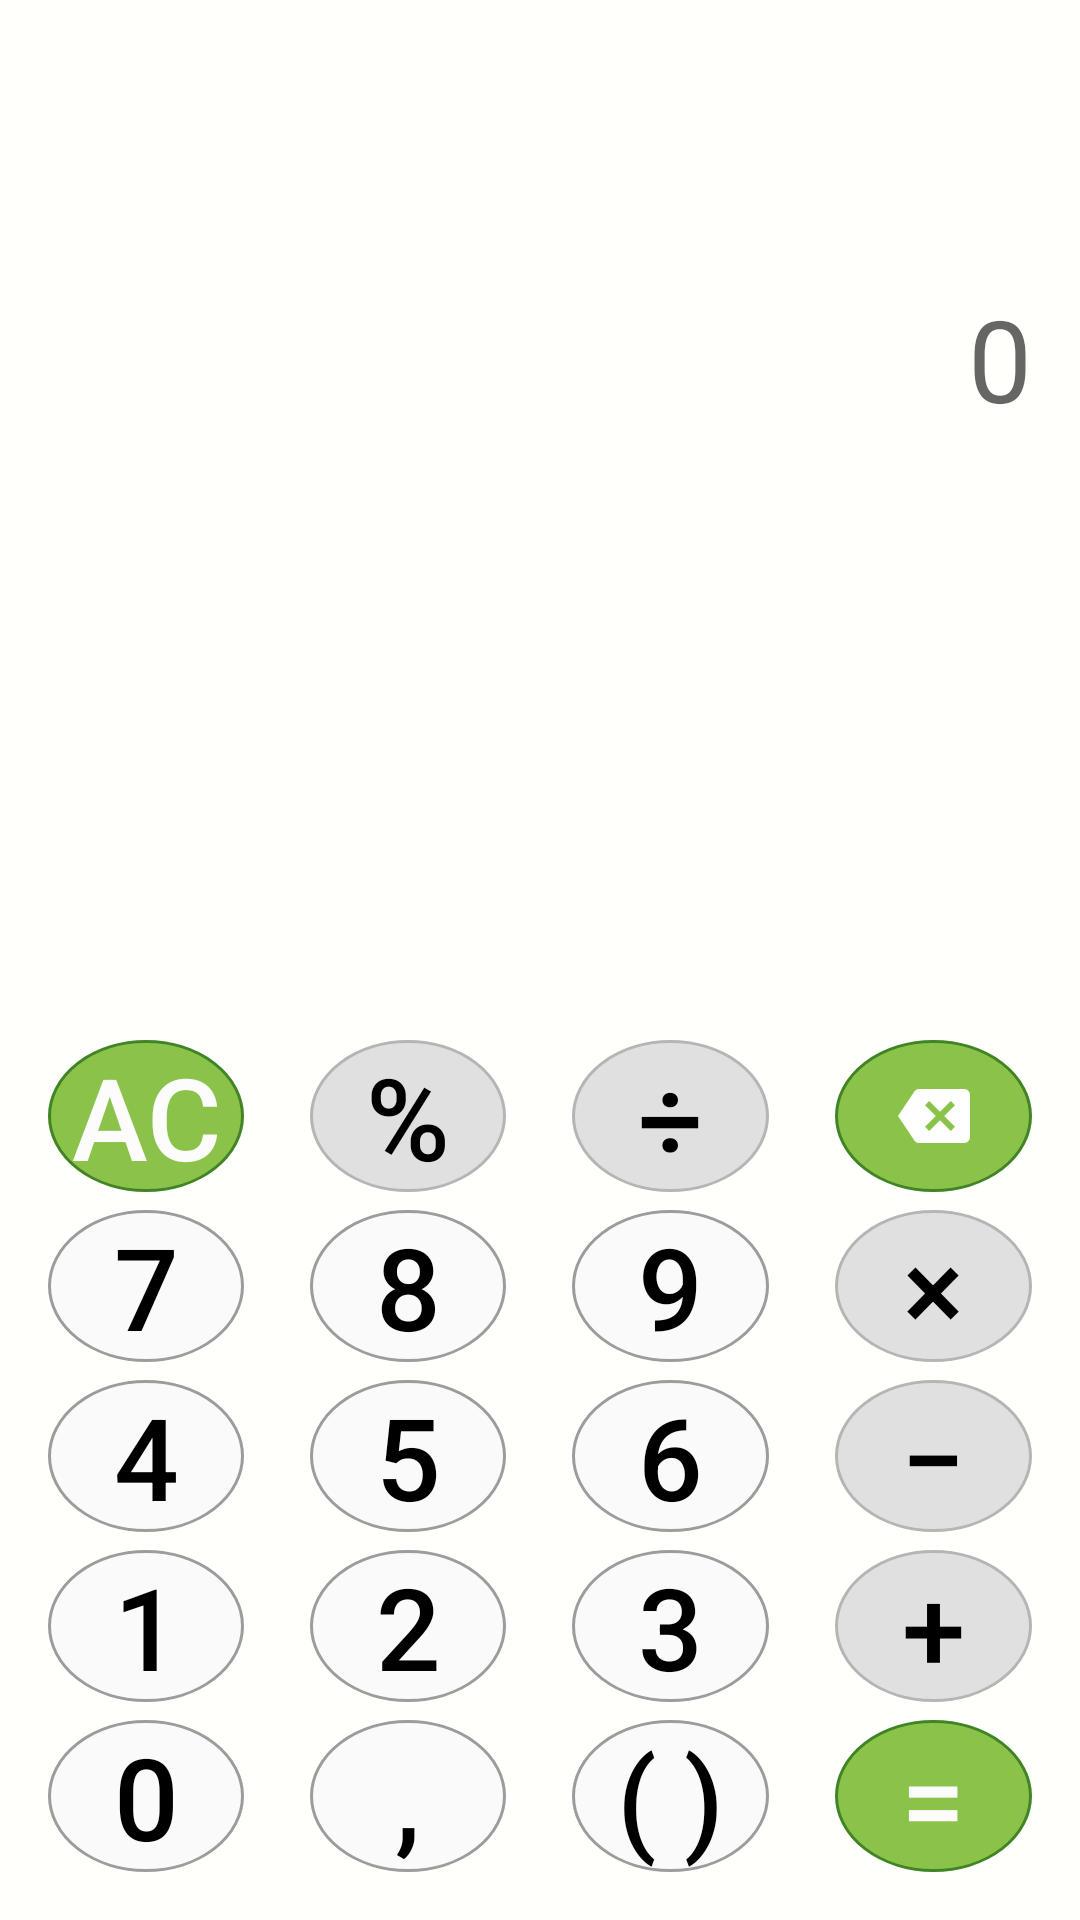

Where icons sit on this 1080px x 1920px app screen, as (x1, y1, x2, y2):
backspace: (835, 1040, 1032, 1192)
